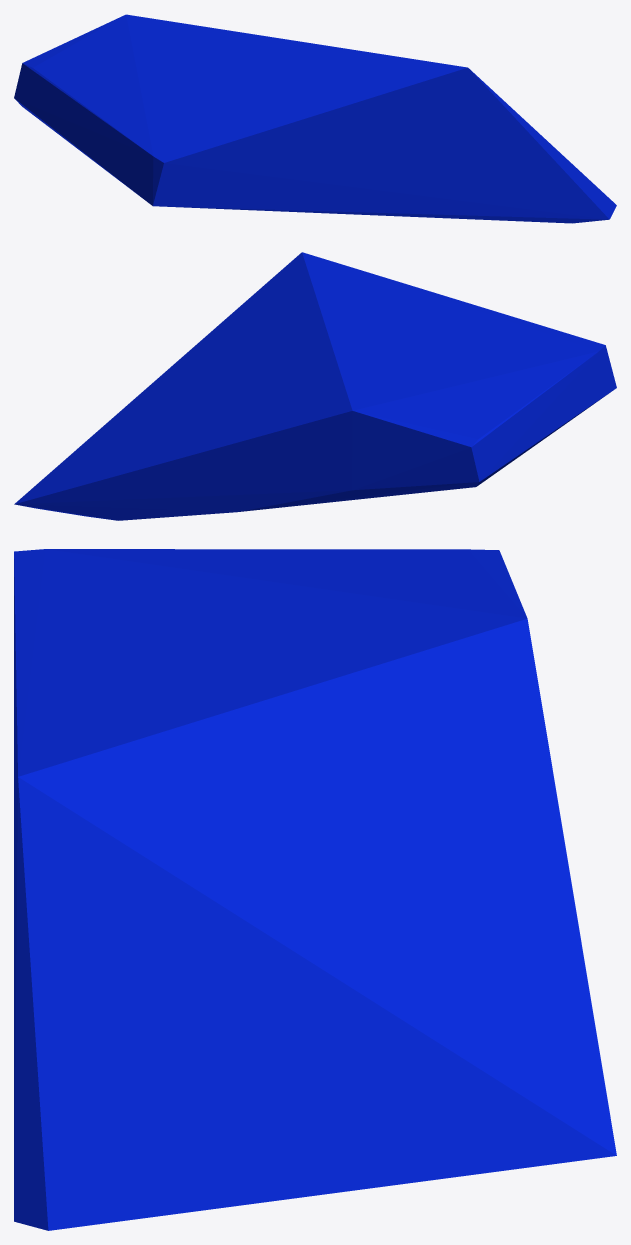
The model's file is shoulder-roll-housing-mirror_convex_piece_002.obj.
3 views of the same model, one above another, from view 1: azimuth 30°, elevation 25°; view 2: azimuth 150°, elevation 25°; view 3: azimuth 270°, elevation 25° (orthographic). The views are drawn at different scales.
Bounding box in the file's own units: 0.121 × 0.0453 × 0.0761.
